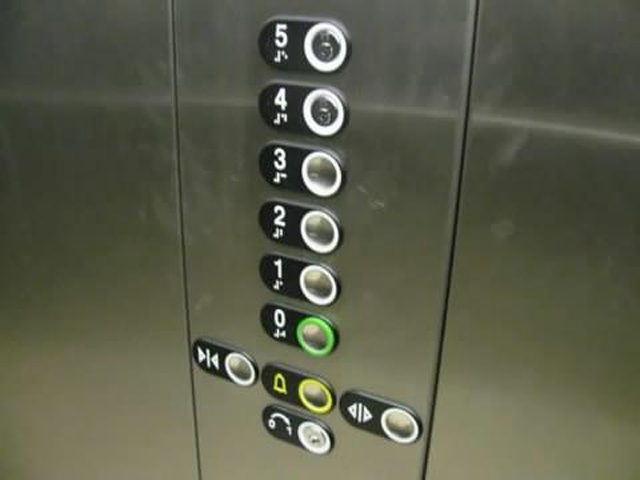0: (254, 303, 343, 356)
1: (256, 253, 343, 308)
2: (255, 197, 349, 256)
3: (253, 138, 350, 199)
4: (254, 78, 353, 142)
5: (255, 17, 352, 75)
alarm: (257, 360, 334, 417)
close: (191, 333, 259, 385)
open: (340, 387, 428, 446)
unknown: (258, 400, 336, 458)
